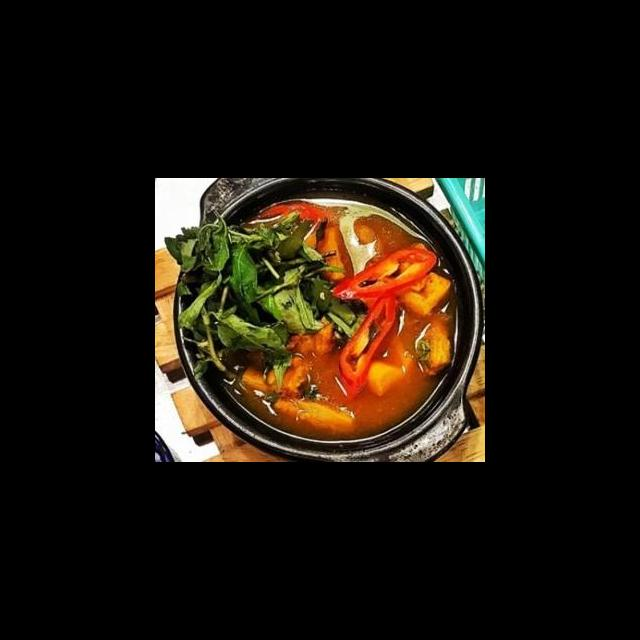dau hu: (396, 270, 454, 321)
rau ram: (161, 203, 371, 392)
